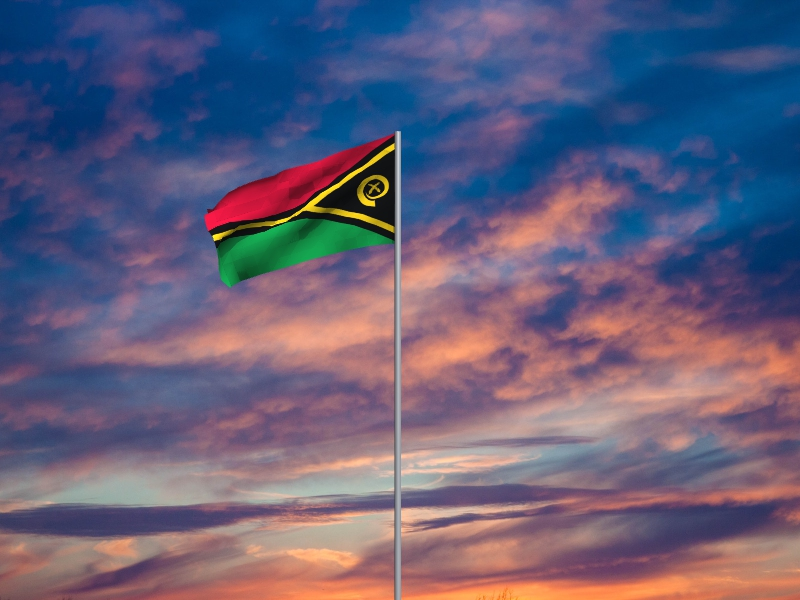vu: (203, 133, 395, 288)
